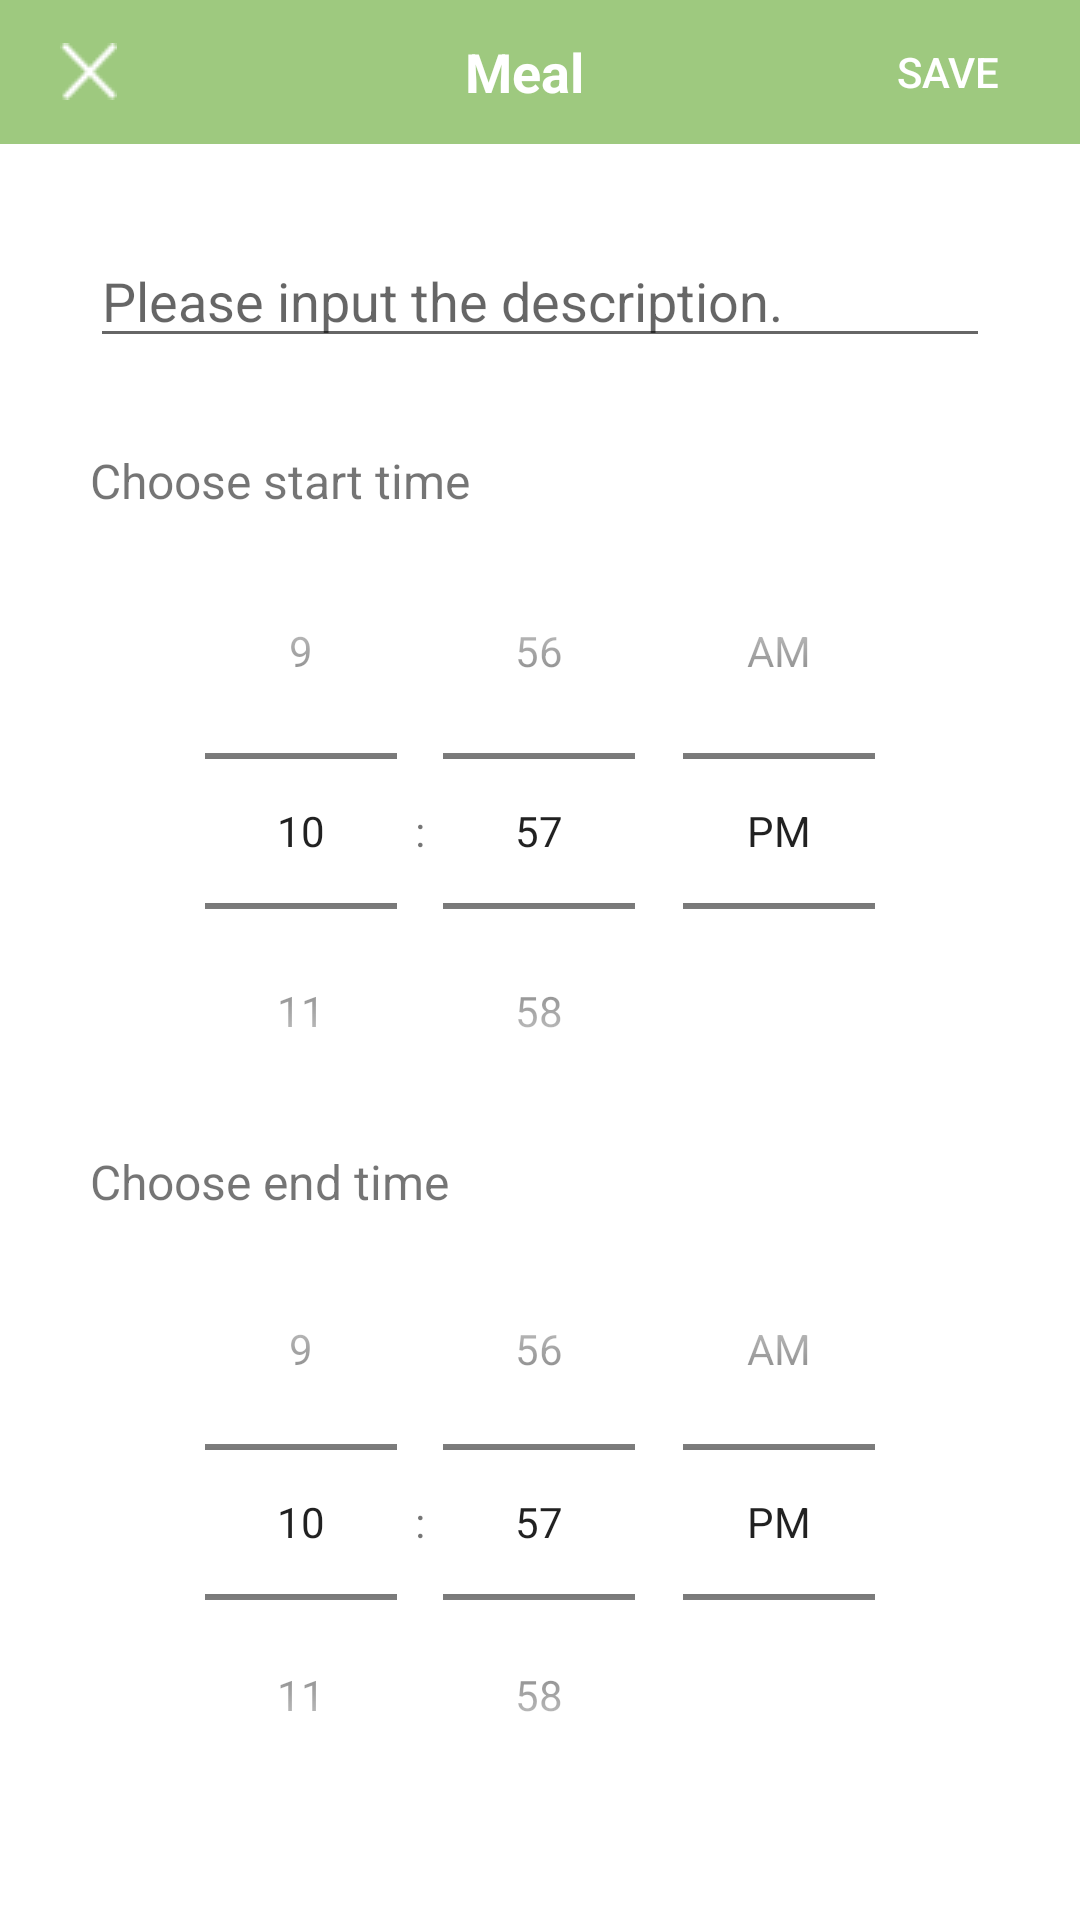

Screen size 1080px×1920px. Icon name, then its center in pixels as (x,y):
close: (88,71)
